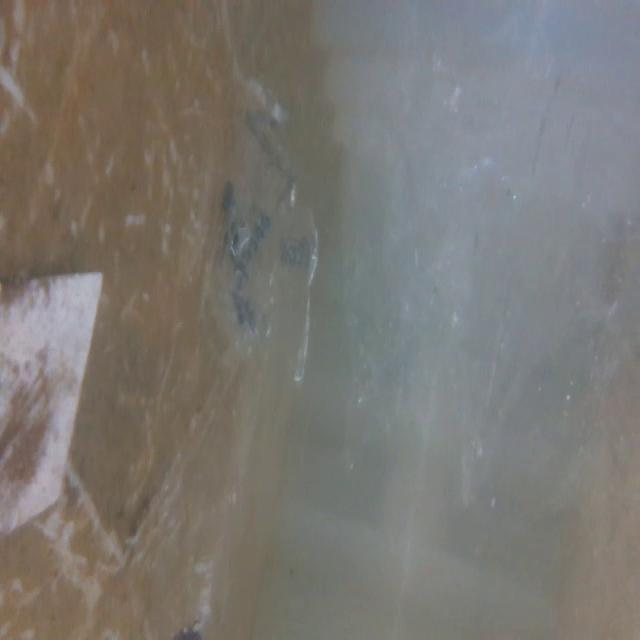metal: (0, 264, 112, 562)
plastic bags: (345, 0, 640, 640), (203, 71, 331, 398)
